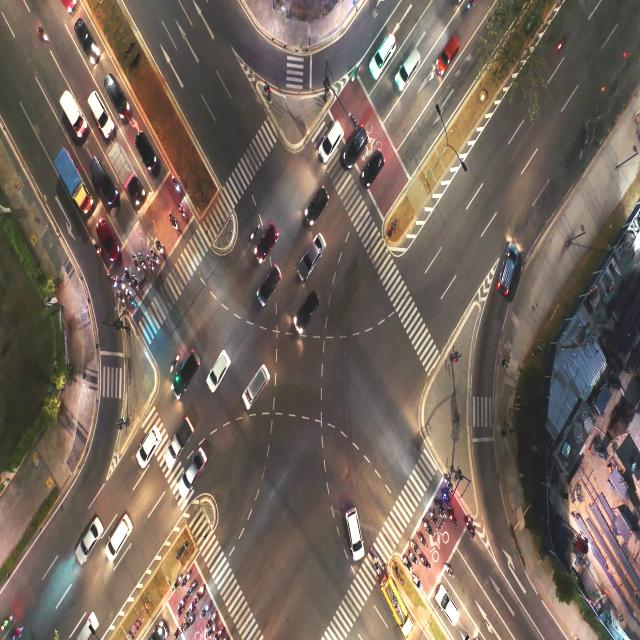bus: (393, 596, 401, 614)
car: (138, 424, 157, 468), (107, 519, 129, 556), (244, 371, 267, 406), (496, 247, 515, 287), (182, 455, 200, 494), (348, 122, 367, 155), (438, 36, 457, 68), (79, 525, 98, 556), (100, 224, 117, 257), (296, 294, 312, 329), (374, 37, 390, 70), (77, 27, 97, 53), (306, 186, 322, 218), (347, 516, 362, 549), (302, 244, 318, 274), (403, 50, 416, 86), (210, 353, 225, 384), (142, 136, 156, 169), (365, 148, 377, 182), (92, 162, 106, 191), (110, 78, 124, 107), (326, 125, 340, 152), (443, 592, 457, 619), (183, 359, 194, 387), (94, 101, 108, 122), (261, 278, 273, 300), (261, 228, 272, 252)
motorcycle: (169, 356, 179, 369), (374, 554, 380, 573), (199, 604, 206, 620), (216, 624, 223, 640), (251, 226, 259, 238), (194, 588, 202, 600), (446, 562, 453, 575), (404, 558, 411, 570), (415, 576, 422, 588), (186, 604, 192, 618), (92, 236, 97, 252), (174, 575, 182, 585), (173, 178, 179, 191), (170, 215, 176, 228), (467, 522, 474, 533), (446, 473, 451, 488), (412, 540, 418, 552), (128, 291, 134, 303), (177, 602, 183, 614), (445, 492, 451, 503), (438, 504, 444, 515), (208, 614, 214, 625), (423, 555, 428, 568), (135, 273, 139, 289), (432, 510, 437, 522), (180, 206, 186, 216), (154, 250, 158, 265), (185, 572, 190, 584), (189, 584, 195, 594), (186, 619, 192, 629), (426, 522, 430, 536), (419, 533, 424, 544), (158, 240, 162, 252), (126, 268, 130, 280), (208, 628, 214, 636), (134, 257, 138, 268), (117, 294, 123, 301), (451, 514, 455, 524), (413, 554, 417, 564), (174, 629, 178, 639), (141, 256, 144, 269), (122, 283, 126, 291), (150, 260, 153, 270), (114, 276, 116, 286)
truck: (61, 168, 83, 198), (119, 155, 132, 193), (64, 95, 76, 127)
